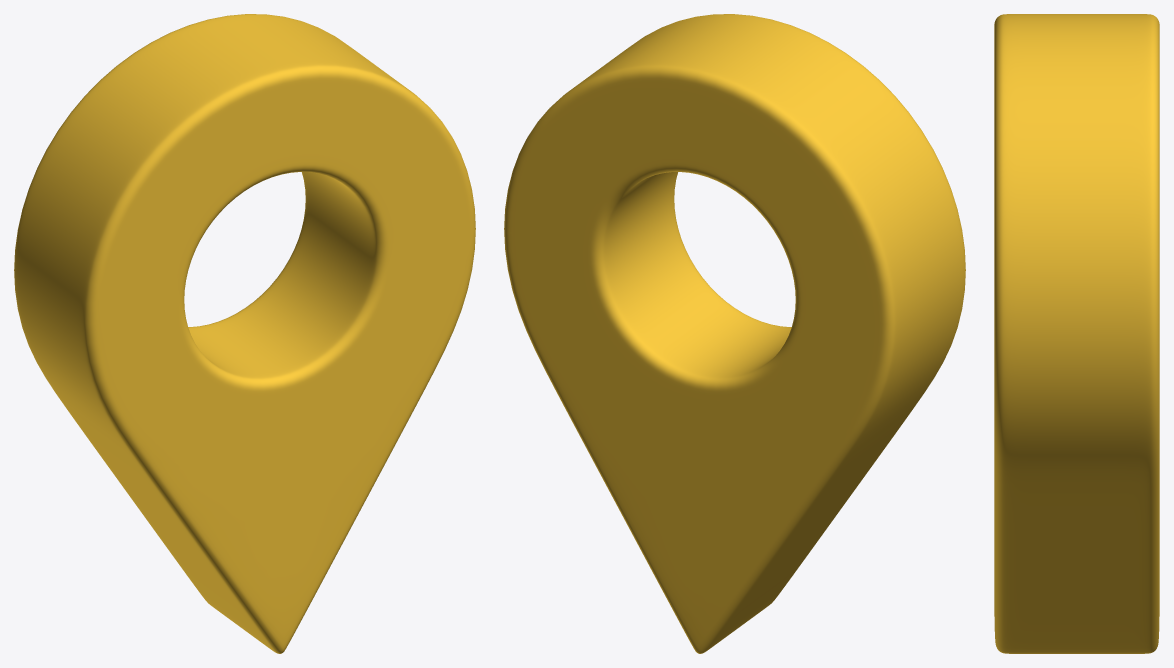
File: location.glb
3 renders of one model, left to right at view 1: azimuth 30°, elevation 25°; view 2: azimuth 150°, elevation 25°; view 3: azimuth 270°, elevation 25°, orthographic. The views are drawn at different scales.
Parts seen in each view (by area): view 1: Map-Pin; view 2: Map-Pin; view 3: Map-Pin.
Part boxes in pixels (x1=…): Map-Pin: x1=14, y1=14, x2=475, y2=653; Map-Pin: x1=504, y1=14, x2=965, y2=653; Map-Pin: x1=994, y1=14, x2=1159, y2=653.
Size of the model in its own units: 1.24 by 1.77 by 0.43.
